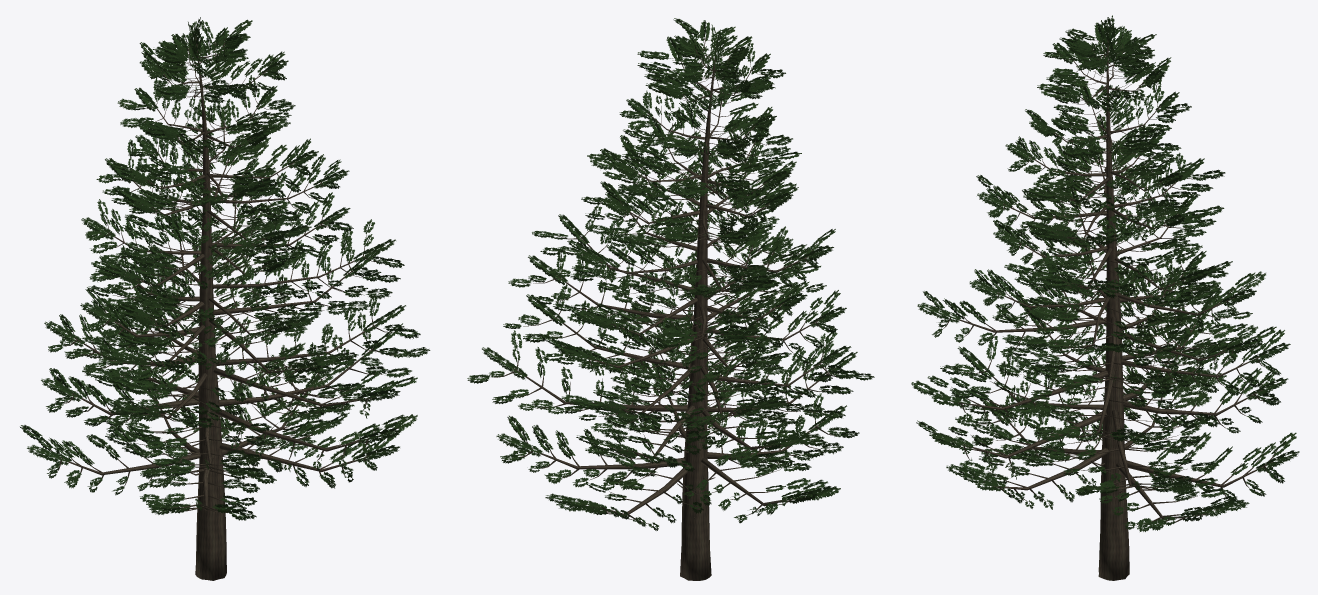
File: pine-natural-2.glb
3 views of the same model, side by side, from view 1: azimuth 30°, elevation 25°; view 2: azimuth 150°, elevation 25°; view 3: azimuth 270°, elevation 25° (orthographic). The views are drawn at different scales.
Parts seen in each view (by area): view 1: pine-natural-2 / Layered pine needle cutouts, pine-natural-2 / Rain dark fissured pine bark; view 2: pine-natural-2 / Layered pine needle cutouts, pine-natural-2 / Rain dark fissured pine bark; view 3: pine-natural-2 / Layered pine needle cutouts, pine-natural-2 / Rain dark fissured pine bark.
Part boxes in pixels (x1,y1,x2,y2): pine-natural-2 / Layered pine needle cutouts: (20,17,430,520); pine-natural-2 / Rain dark fissured pine bark: (44,33,403,580); pine-natural-2 / Layered pine needle cutouts: (467,18,874,530); pine-natural-2 / Rain dark fissured pine bark: (492,29,851,580); pine-natural-2 / Layered pine needle cutouts: (911,15,1299,531); pine-natural-2 / Rain dark fissured pine bark: (936,32,1277,580).
Bounding box in the file's own units: 5.98 × 8.7 × 5.68.
2 materials, 2 textured.
